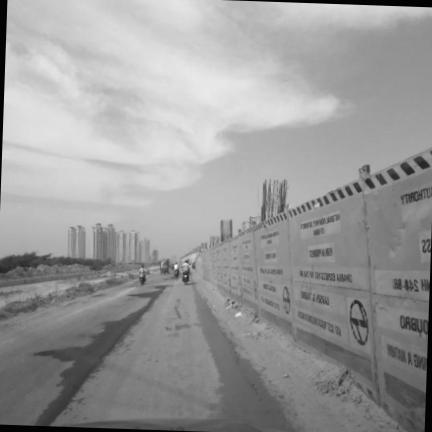Road: (0, 275, 291, 430)
